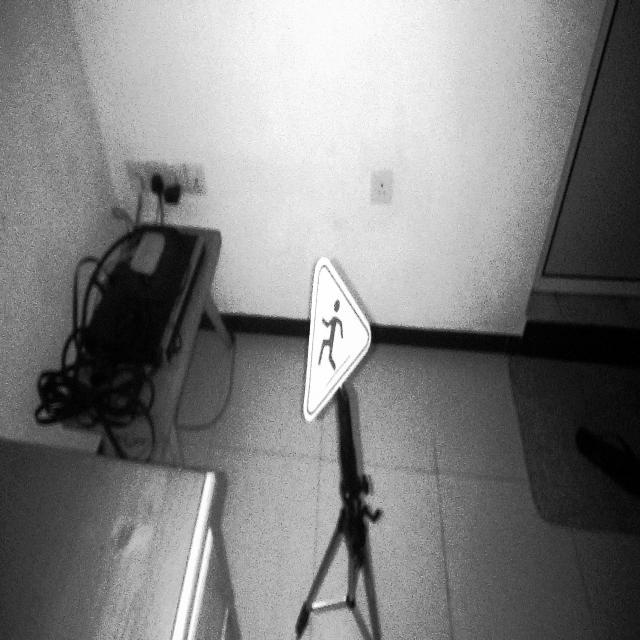Sign: (302, 256, 372, 425)
